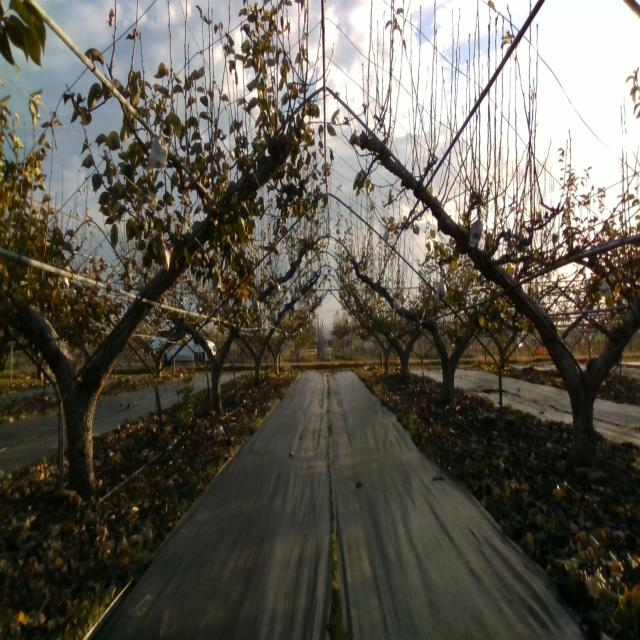pearbags: (146, 130, 168, 170), (469, 212, 483, 248), (438, 270, 448, 302)
